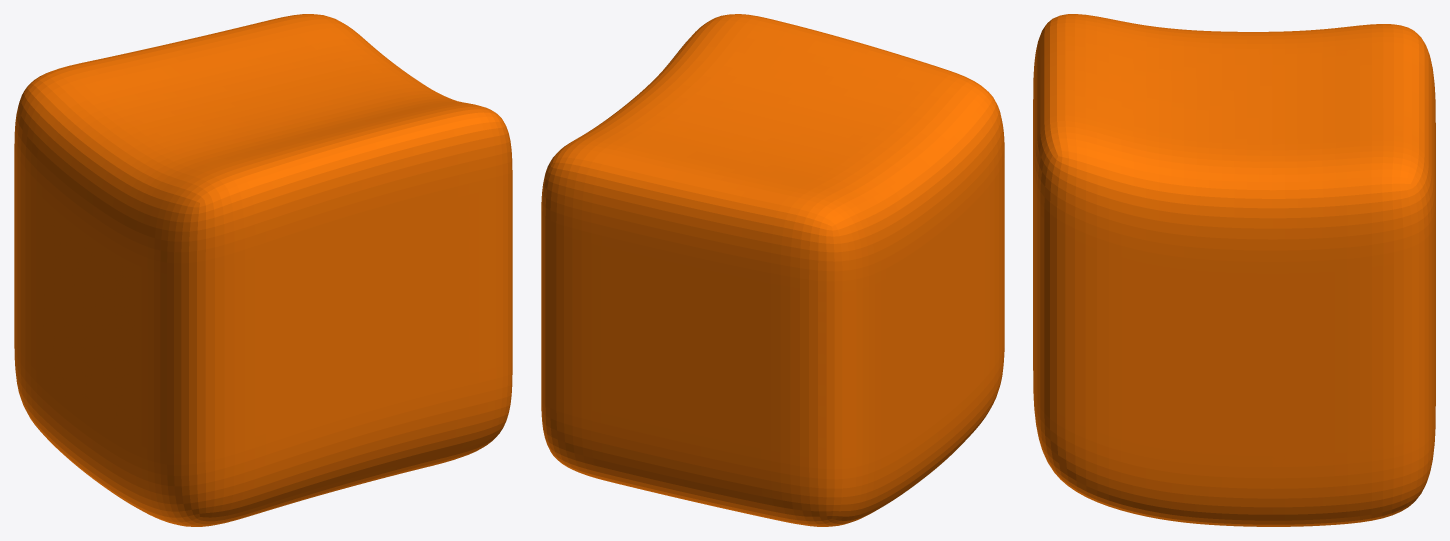
3 renders of one model, left to right at view 1: azimuth 30°, elevation 25°; view 2: azimuth 150°, elevation 25°; view 3: azimuth 270°, elevation 25°, orthographic. The views are drawn at different scales.
Visible parts, largest first — view 1: smooth_1_base.039; view 2: smooth_1_base.039; view 3: smooth_1_base.039.
Boxes of the visible parts, <box> form: smooth_1_base.039: <box>14,14,512,526</box>; smooth_1_base.039: <box>541,14,1004,526</box>; smooth_1_base.039: <box>1033,14,1435,526</box>.
Size of the model in its own units: 60 by 64.84 by 60.
